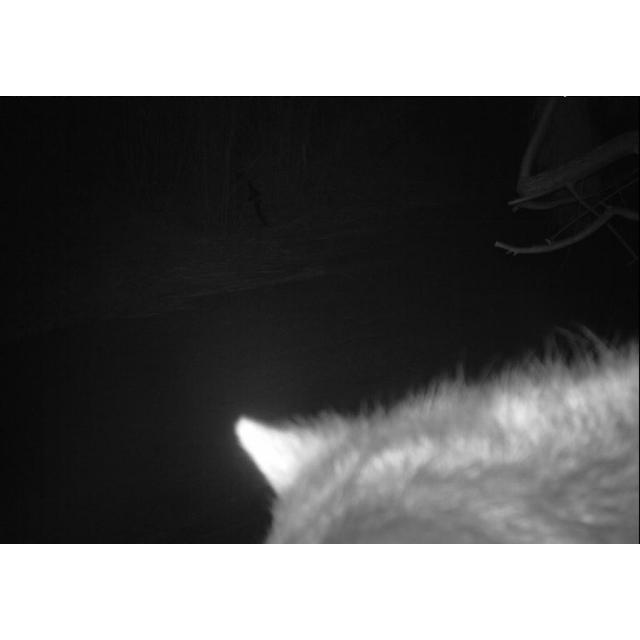animals: (219, 341, 639, 545)
